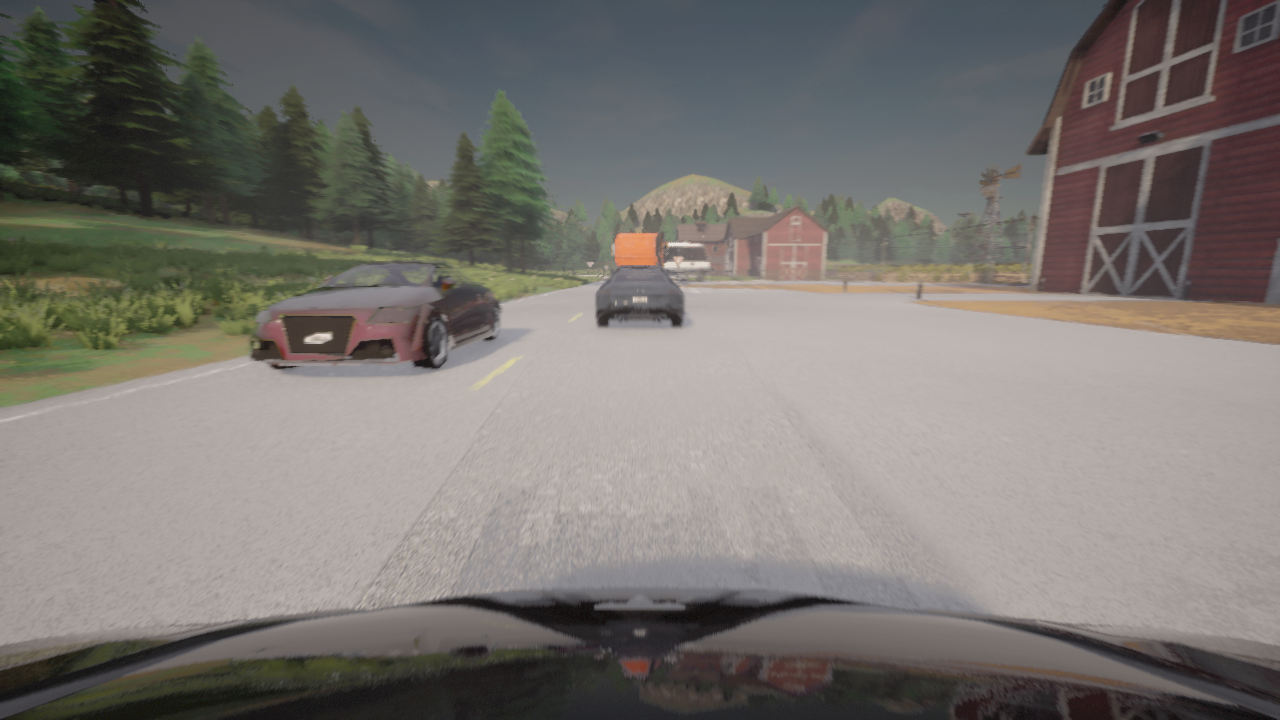cyclist: (0, 588, 1279, 719), (249, 262, 501, 370), (596, 266, 683, 327), (611, 232, 668, 276), (663, 242, 714, 282)
